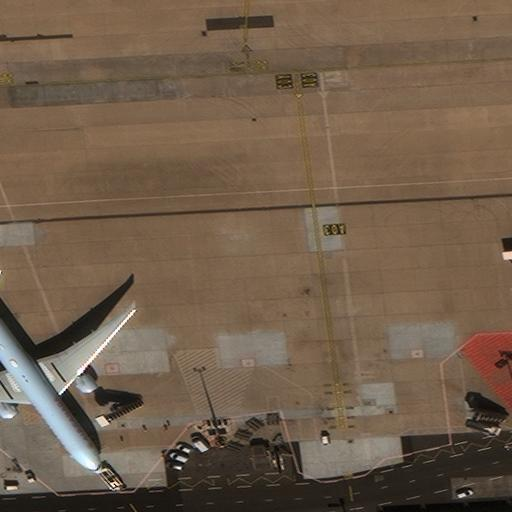Large Civil Transport: (0, 286, 135, 472)
